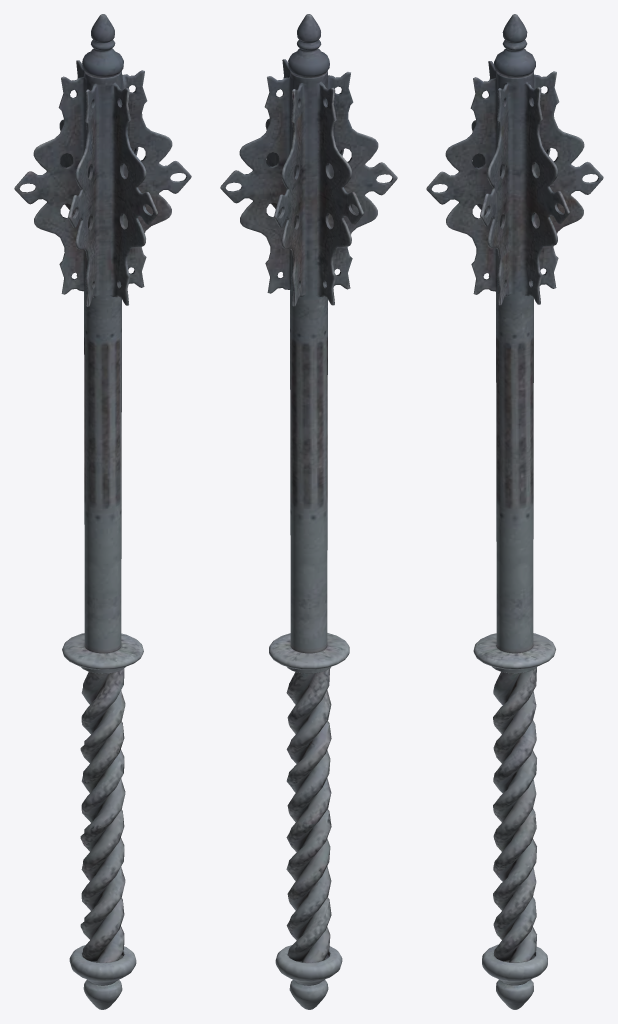
File: mace.glb
3 views of the same model, side by side, from view 1: azimuth 30°, elevation 25°; view 2: azimuth 150°, elevation 25°; view 3: azimuth 270°, elevation 25° (orthographic).
Visible parts, largest first — view 1: ornate_medieval_mace; view 2: ornate_medieval_mace; view 3: ornate_medieval_mace.
Boxes of the visible parts, left/top/right/bottom form: ornate_medieval_mace: left=14, top=14, right=191, bottom=1009; ornate_medieval_mace: left=220, top=14, right=397, bottom=1009; ornate_medieval_mace: left=426, top=14, right=603, bottom=1009.
Size of the model in its own units: 0.0949 by 0.63 by 0.1017.
1 material, 1 textured.
